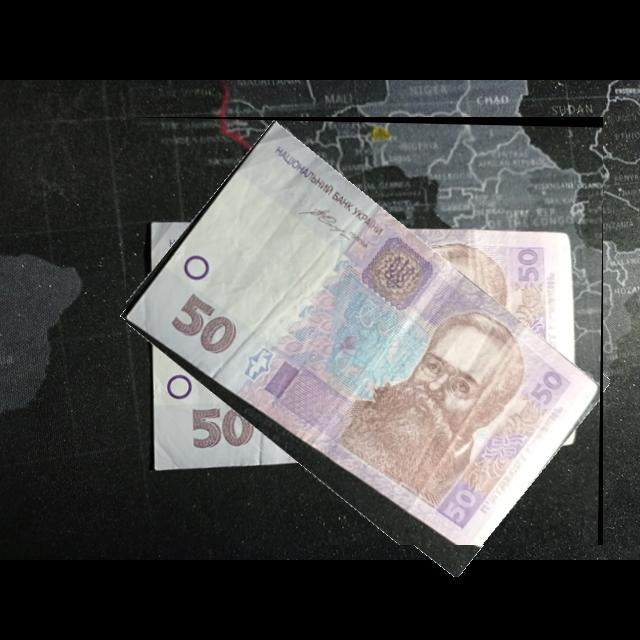50uah: (126, 120, 601, 546)
